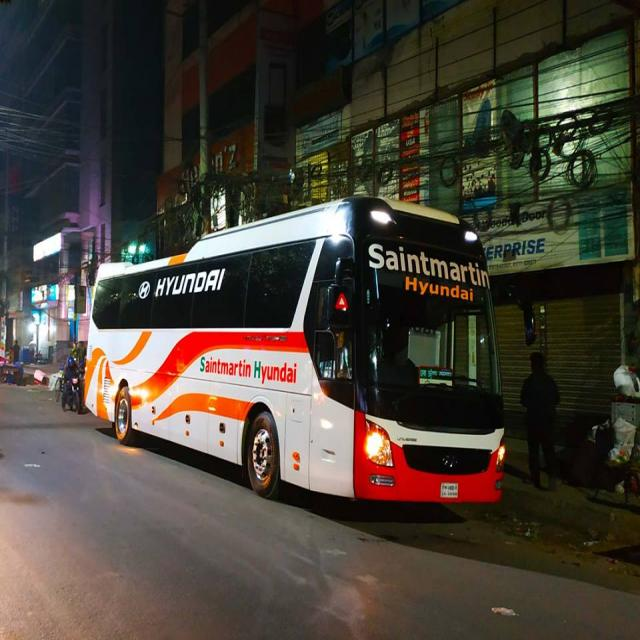bus: (84, 195, 504, 503)
